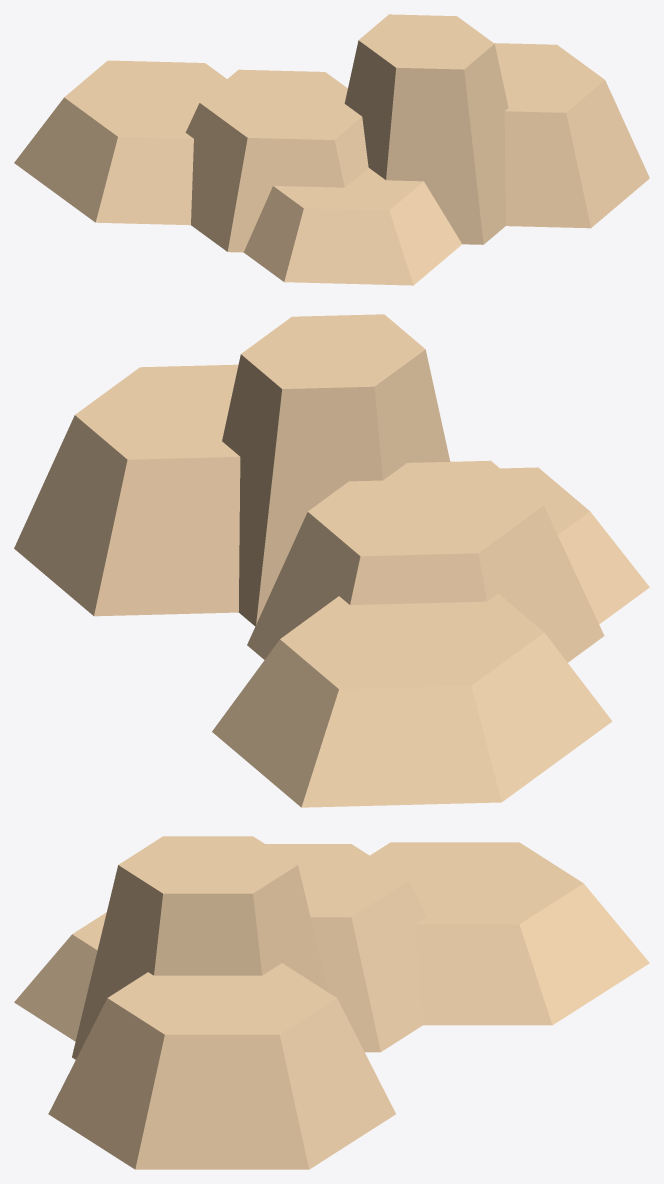
Rendered from detail_dirt.glb.
3 views of the same model, one above another, from view 1: azimuth 30°, elevation 25°; view 2: azimuth 150°, elevation 25°; view 3: azimuth 270°, elevation 25° (orthographic). The views are drawn at different scales.
Parts seen in each view (by area): view 1: detail_dirt; view 2: detail_dirt; view 3: detail_dirt.
Boxes of the visible parts, left/top/right/bottom form: detail_dirt: left=14, top=14, right=649, bottom=285; detail_dirt: left=14, top=314, right=649, bottom=807; detail_dirt: left=14, top=836, right=649, bottom=1169.
Bounding box in the file's own units: 0.6 × 0.2003 × 0.6.
